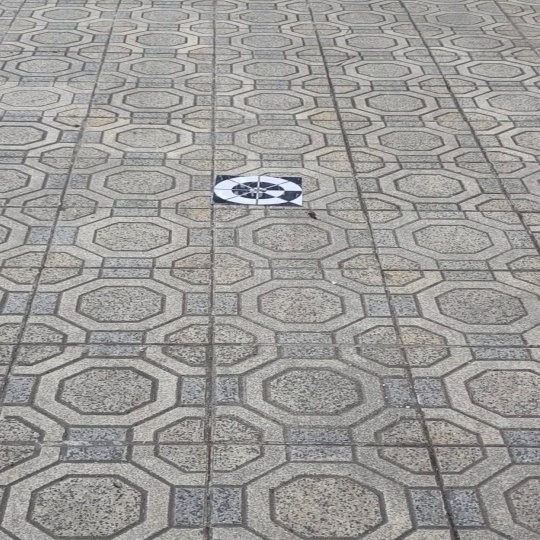landing-zone: (209, 172, 307, 208)
